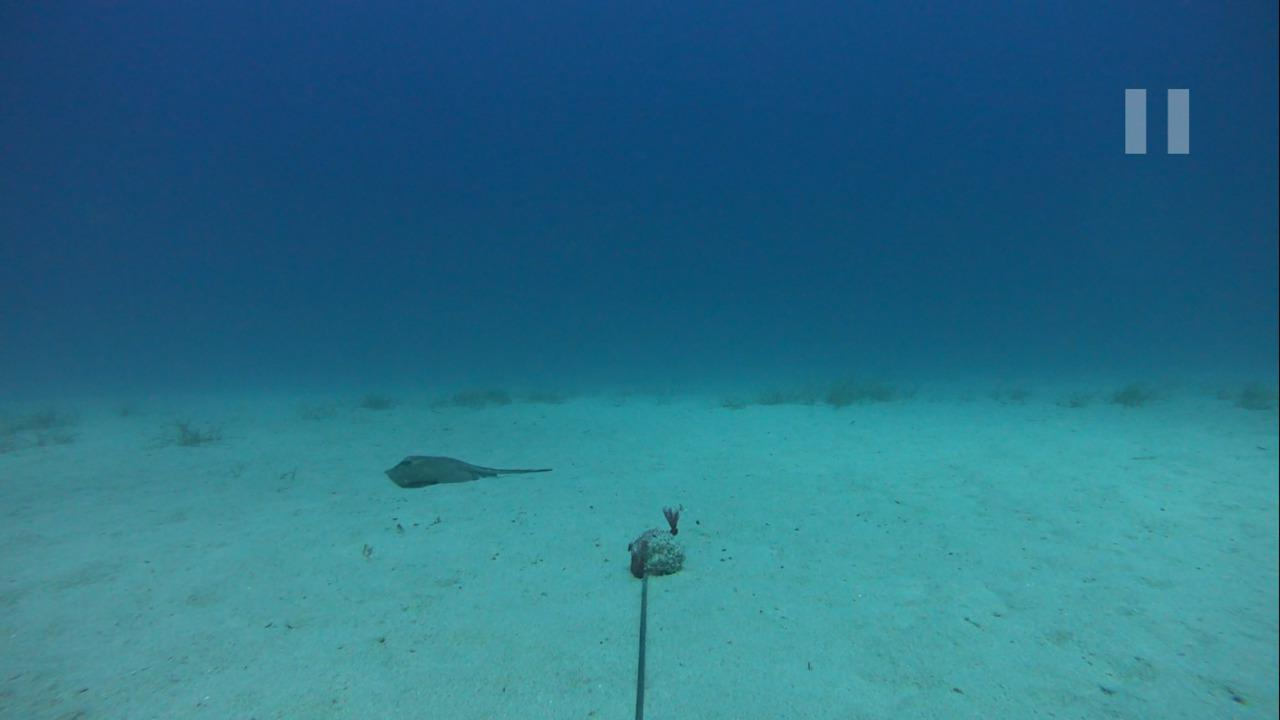myliobatis: (377, 446, 557, 490)
